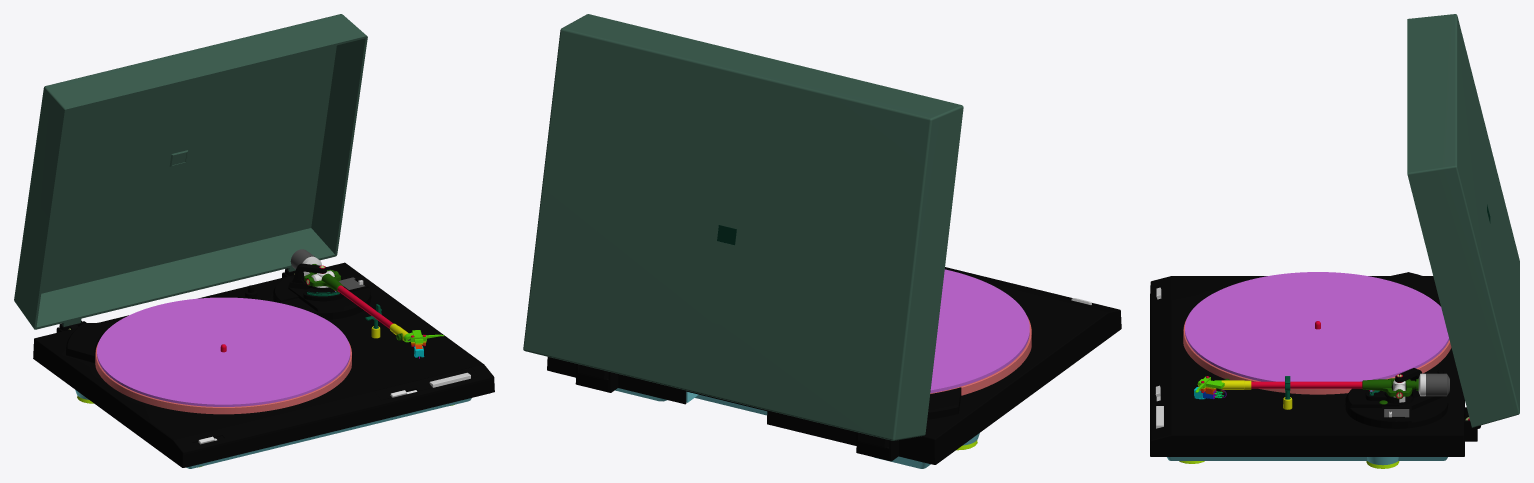
File: #RPL0002_Yamaha_TT-300.fbx
3 views of the same model, side by side, from view 1: azimuth 30°, elevation 25°; view 2: azimuth 150°, elevation 25°; view 3: azimuth 270°, elevation 25° (orthographic). The views are drawn at different scales.
Parts seen in each view (by area): view 1: #RPL0002_Cover, #RPL0002_Yamaha_TT-300, #RPL0002_Platter, #RPL0002_Tone_Arm; view 2: #RPL0002_Cover, #RPL0002_Yamaha_TT-300, #RPL0002_Platter; view 3: #RPL0002_Cover, #RPL0002_Yamaha_TT-300, #RPL0002_Platter, #RPL0002_Tone_Arm.
Part boxes in pixels (<box>): #RPL0002_Cover: <box>14,14,367,330</box>; #RPL0002_Yamaha_TT-300: <box>33,262,494,468</box>; #RPL0002_Platter: <box>95,297,351,414</box>; #RPL0002_Tone_Arm: <box>290,249,443,358</box>; #RPL0002_Cover: <box>523,14,963,448</box>; #RPL0002_Yamaha_TT-300: <box>547,267,1121,468</box>; #RPL0002_Platter: <box>930,269,1031,395</box>; #RPL0002_Cover: <box>1407,14,1519,428</box>; #RPL0002_Yamaha_TT-300: <box>1150,272,1477,468</box>; #RPL0002_Platter: <box>1183,272,1451,394</box>; #RPL0002_Tone_Arm: <box>1194,373,1449,399</box>.
Bounding box in the file's own units: 42.7 × 37.69 × 41.71.
